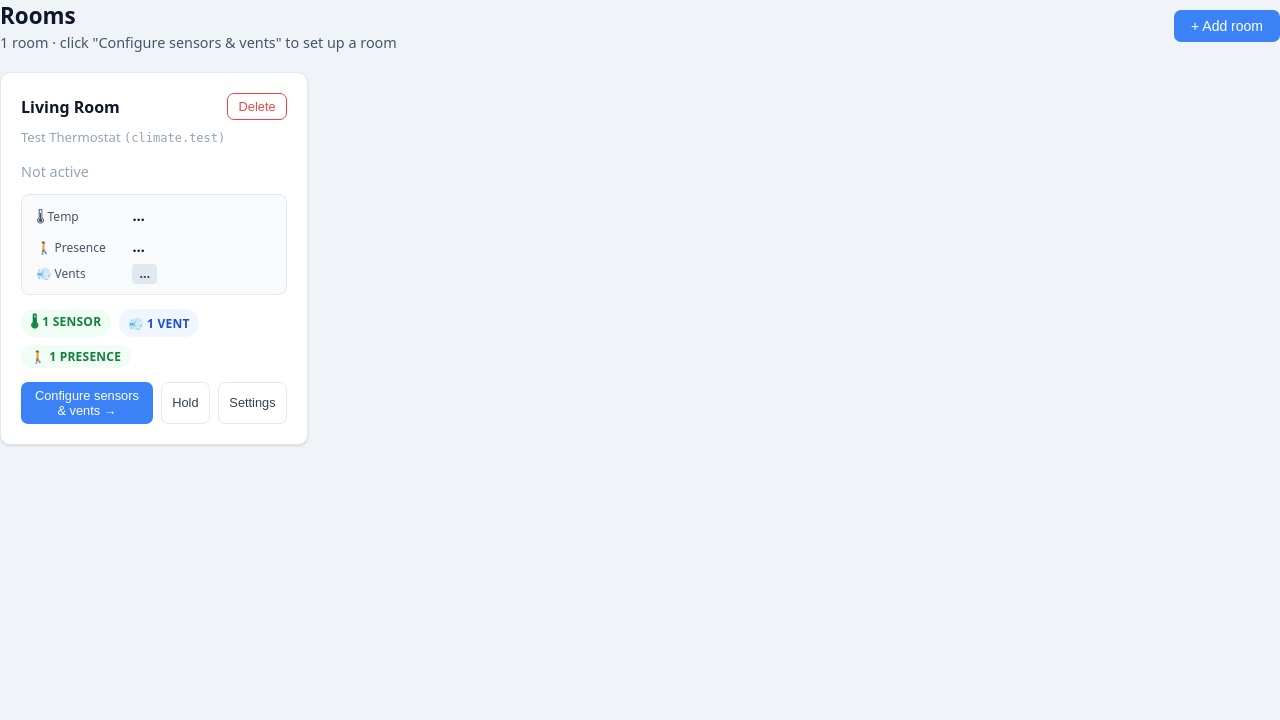
Test case: Rooms Page › shows validation error for negative holdover
Click the button "+ Add room" at (1227,26), box [1174,10,1279,42]
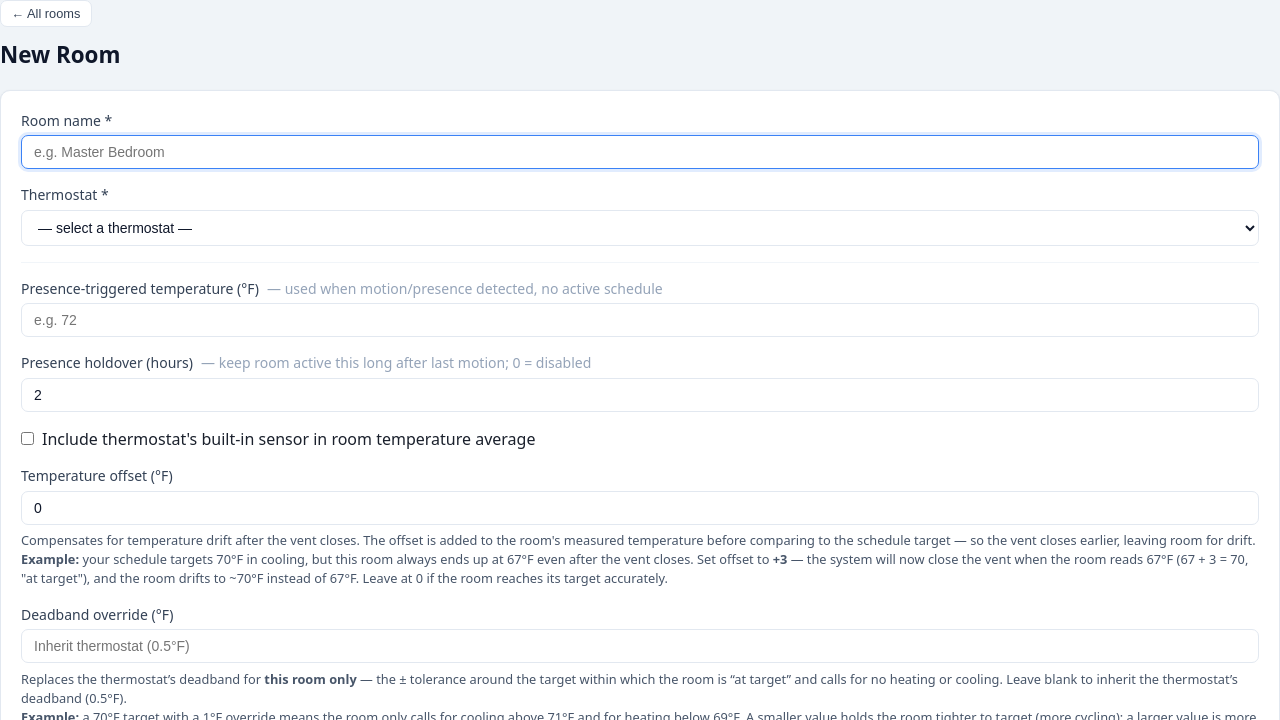
Check: the text "New Room" is shown, box [0,39,120,70]
Type "New Room" into the field labelled "Room name *" at (640,152), box [21,135,1259,169]
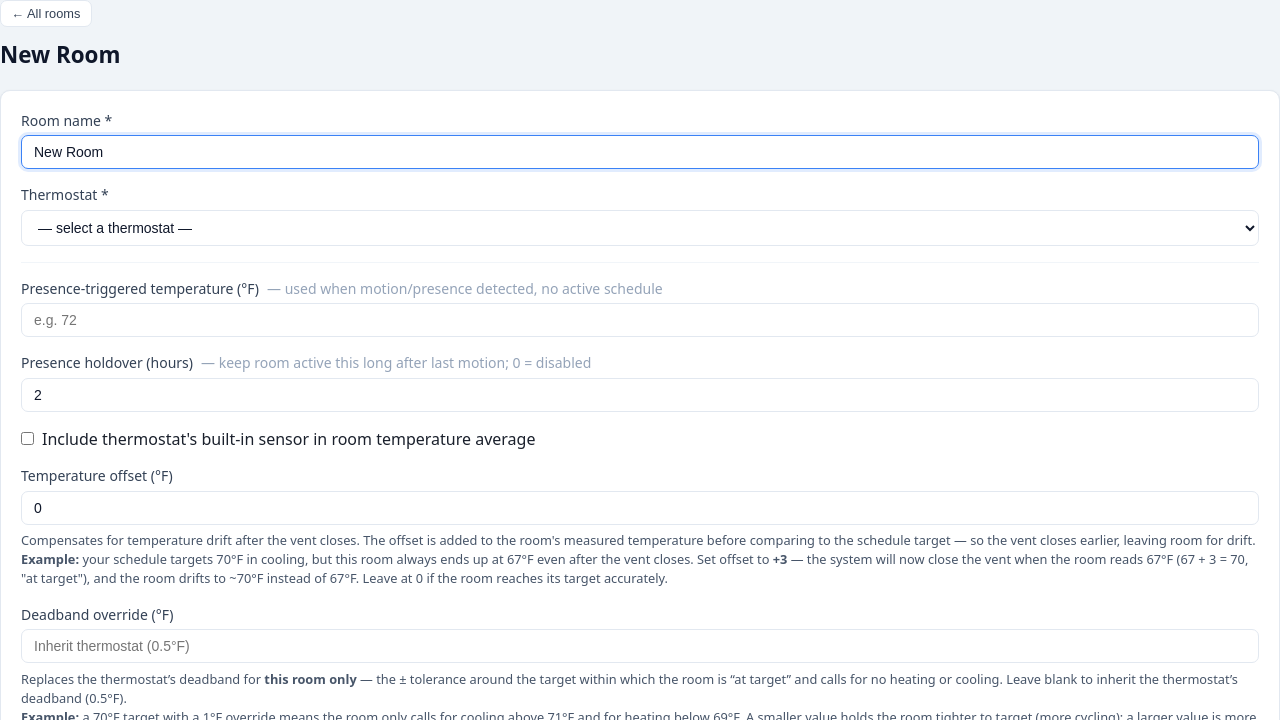
Select "Test Thermostat (climate.test)" in the dropdown labelled "Thermostat *" at (640,228), box [21,210,1259,246]
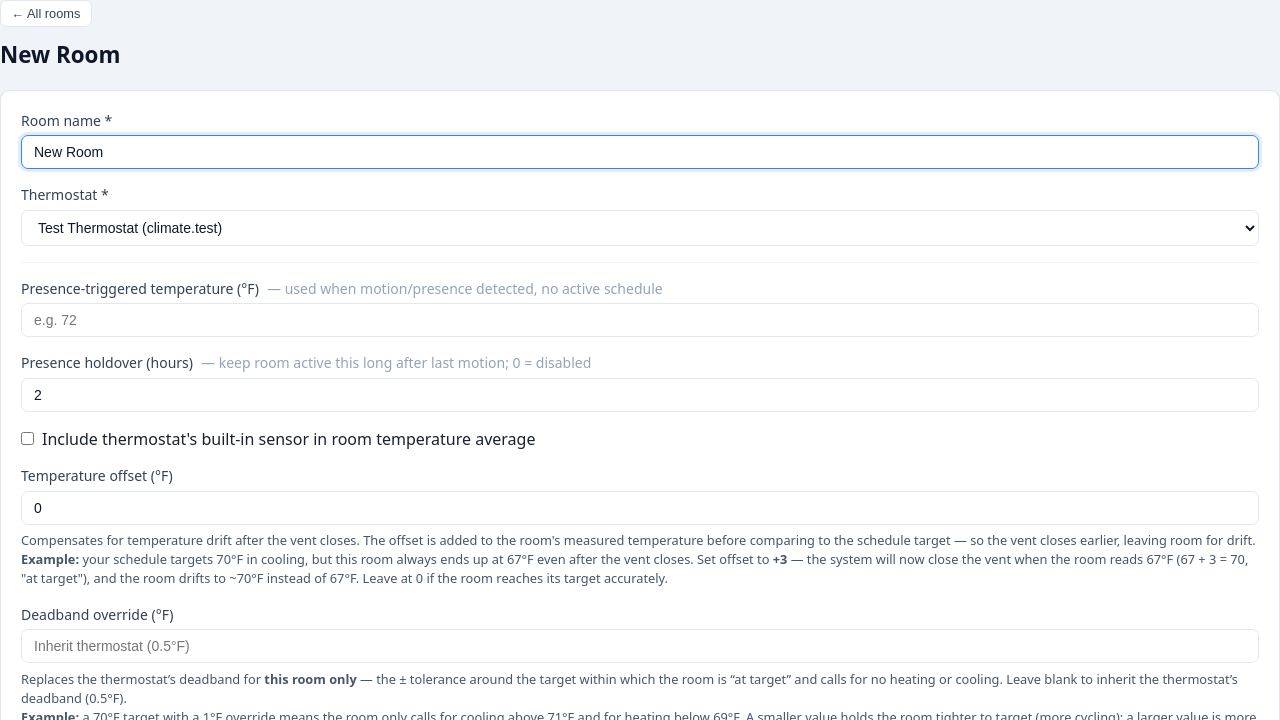
Replace the text in the number field labelled "Presence holdover" with "-1" at (640,395), box [21,378,1259,412]
(page scrolled)
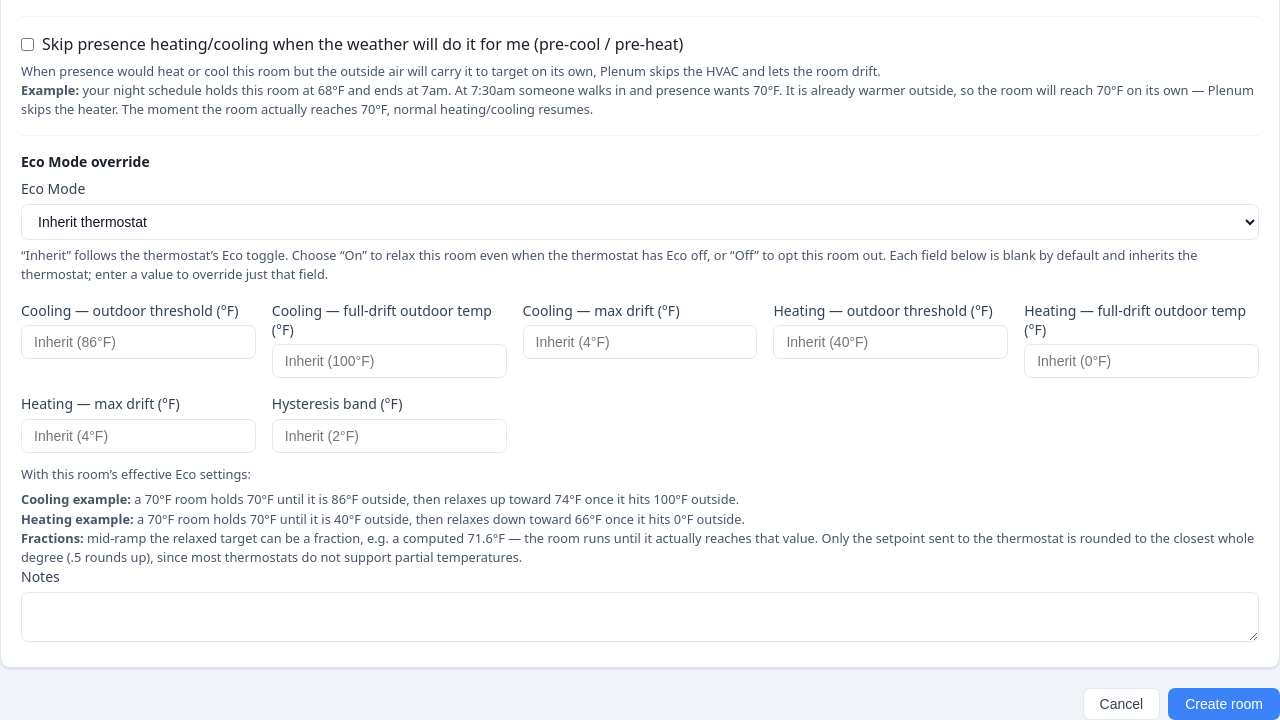
Click the button "Create room" at (1224,704), box [1168,688,1279,719]
(page scrolled)
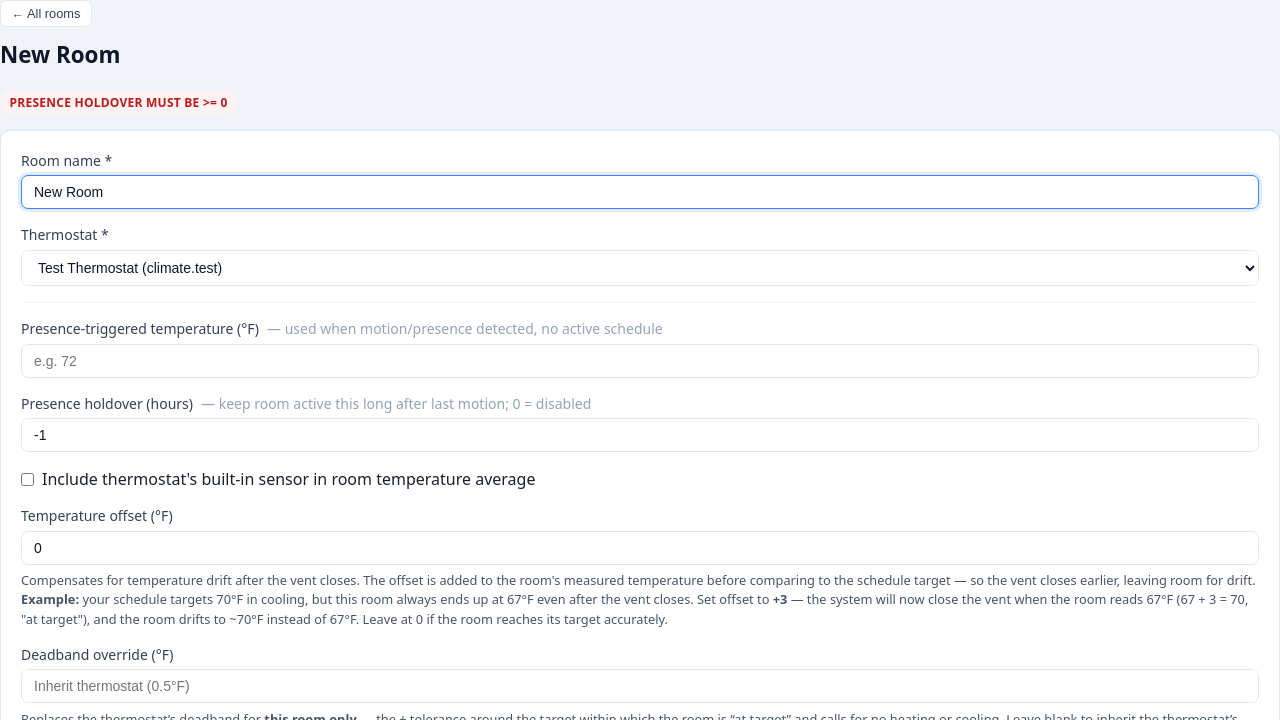
Check: the text "Presence holdover must be >= 0" is shown, box [0,90,237,114]
